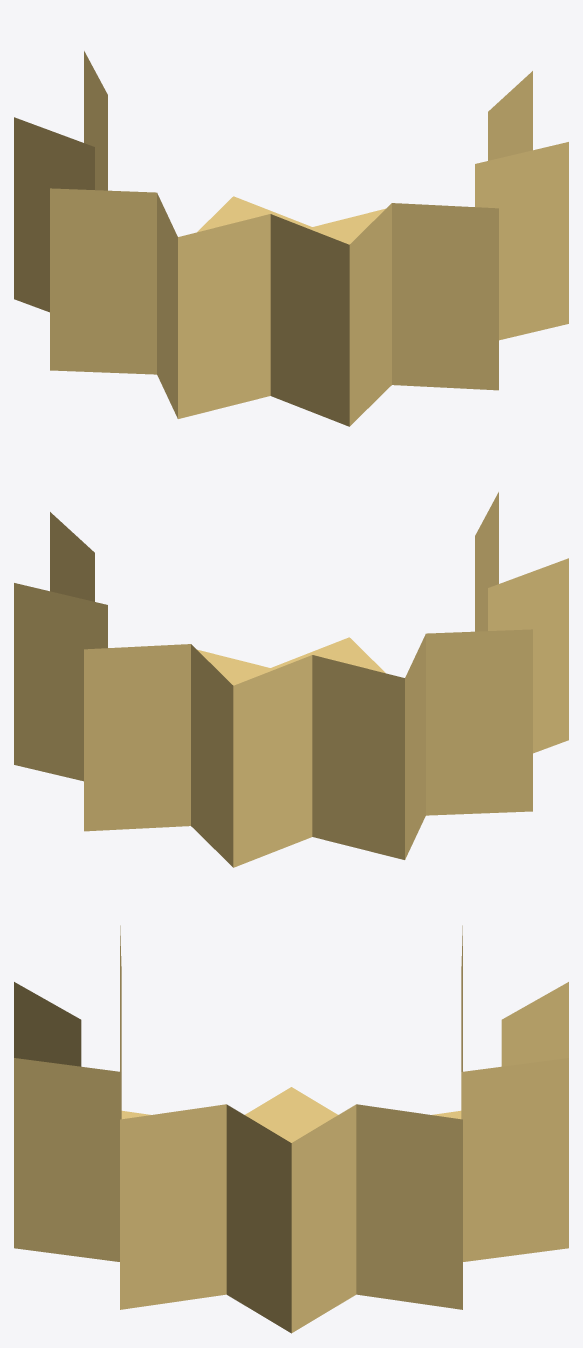
The picture shows the model from 3 angles, top to bottom: view 1: azimuth 30°, elevation 25°; view 2: azimuth 150°, elevation 25°; view 3: azimuth 270°, elevation 25°; orthographic projection. The views are drawn at different scales.
Parts seen in each view (by area): view 1: FT_Spinner; view 2: FT_Spinner; view 3: FT_Spinner.
Boxes of the visible parts, x1=… form: FT_Spinner: x1=14, y1=51, x2=568, y2=426; FT_Spinner: x1=14, y1=492, x2=568, y2=867; FT_Spinner: x1=14, y1=925, x2=568, y2=1333.
Bounding box in the file's own units: 1 × 0.36 × 0.9511.
